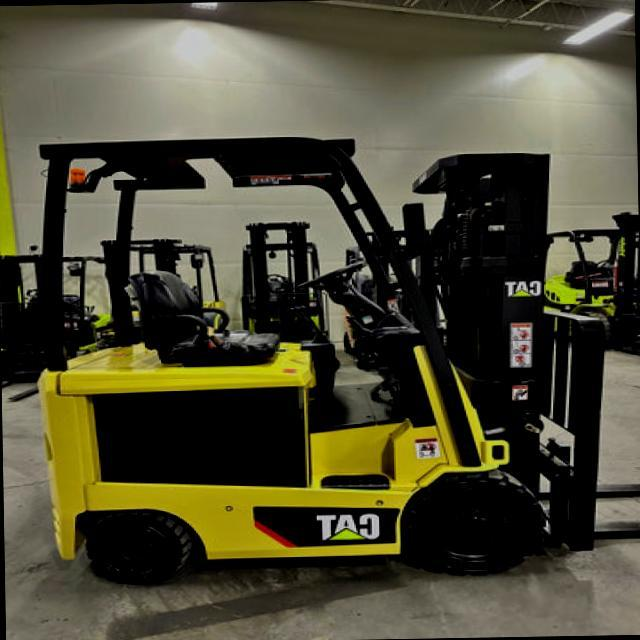forklift: (11, 119, 618, 602)
